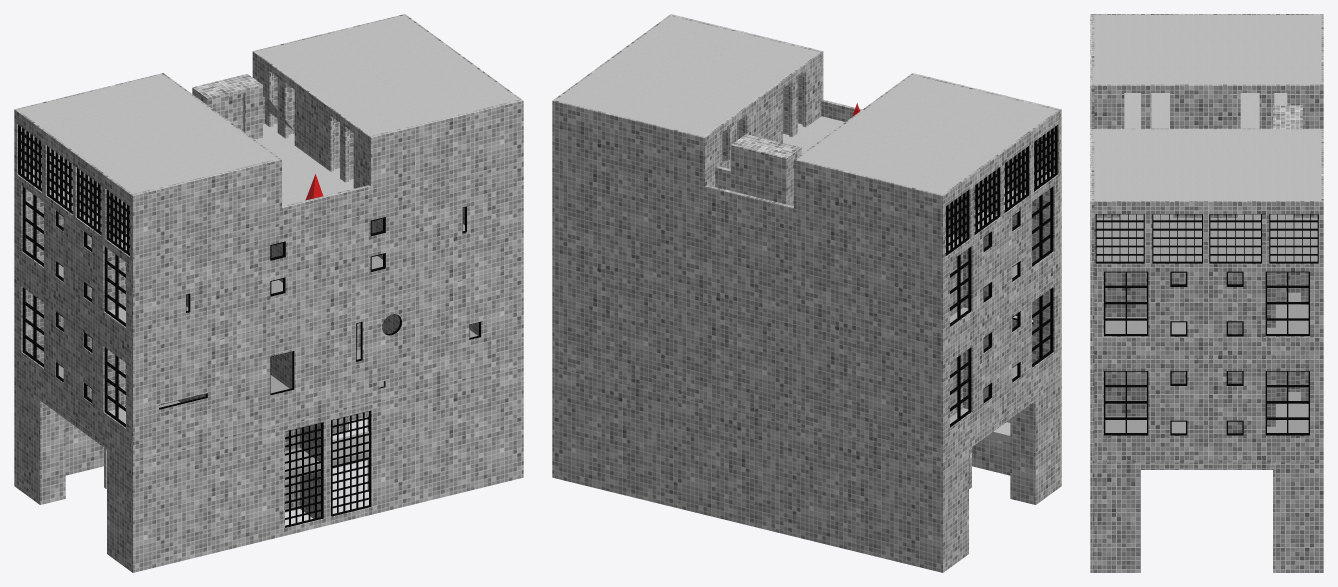
File: 20251203_BUILDIUNG 4 OVERALL.fbx
3 renders of one model, left to right at view 1: azimuth 30°, elevation 25°; view 2: azimuth 150°, elevation 25°; view 3: azimuth 270°, elevation 25°, orthographic.
Parts seen in each view (by area): view 1: WALL, SLAB, WINDOW, GLASS; view 2: WALL, SLAB, WINDOW; view 3: WALL, SLAB, GLASS, WINDOW.
Part boxes in pixels (x1,y1,x2,y2): WALL: (14, 14, 523, 572); SLAB: (17, 15, 519, 480); WINDOW: (18, 125, 480, 527); GLASS: (57, 208, 478, 525); WALL: (552, 14, 1061, 572); SLAB: (555, 16, 1057, 443); WINDOW: (945, 125, 1057, 427); WALL: (1090, 14, 1323, 572); SLAB: (1092, 15, 1321, 433); GLASS: (1097, 215, 1316, 433); WINDOW: (1095, 214, 1318, 435).
Size of the model in its own units: 658 by 606 by 346.
Materials: 6 (3 with a texture image).
